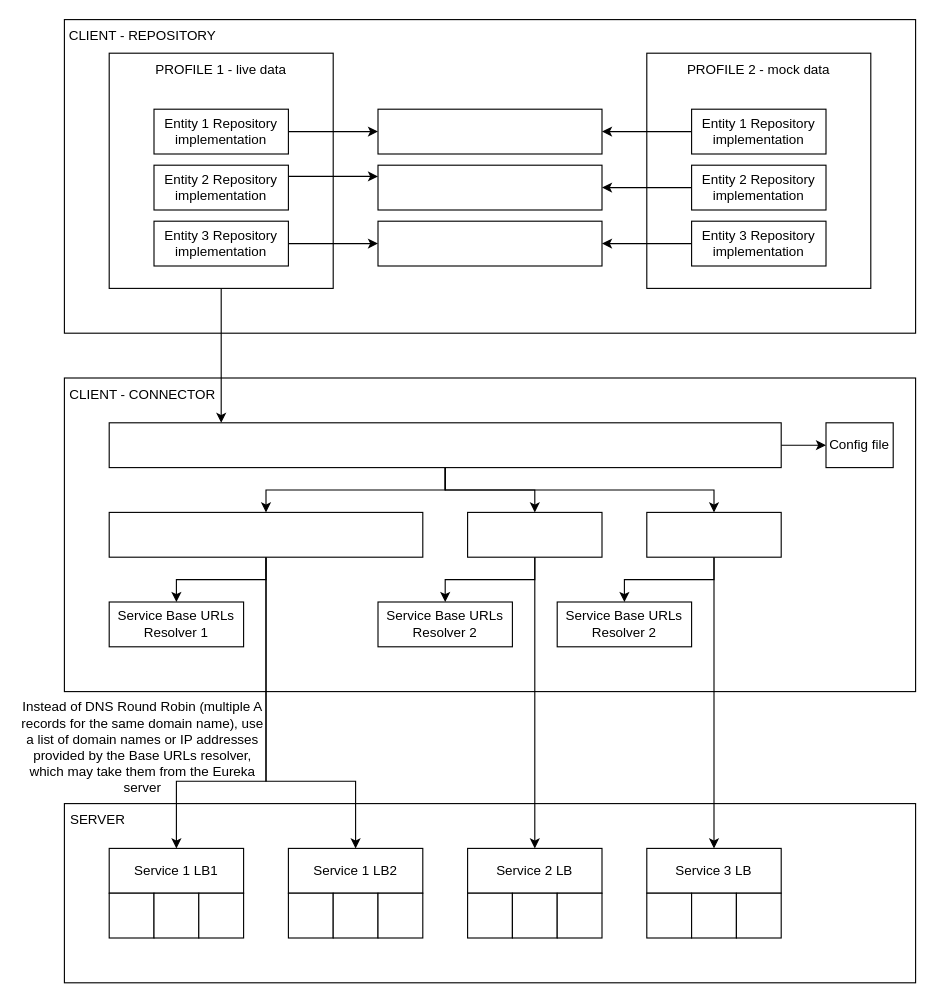
The diagram is 935 pixels wide and 1002 high, and some of its shapes have lost their labels. The box of each missing label's shape, as (x1, y1, x2, y2) in pixels:
Connectors pool: (108, 422, 781, 468)
Entity 1 Repository specification: (377, 108, 602, 154)
Entity 2 specification: (377, 164, 602, 210)
Entity 3 specification: (377, 220, 602, 266)
Service 1 Connector - LB: (108, 511, 423, 557)
Service 2 Connector: (466, 511, 602, 557)
Service 3 Connector: (646, 511, 781, 557)
